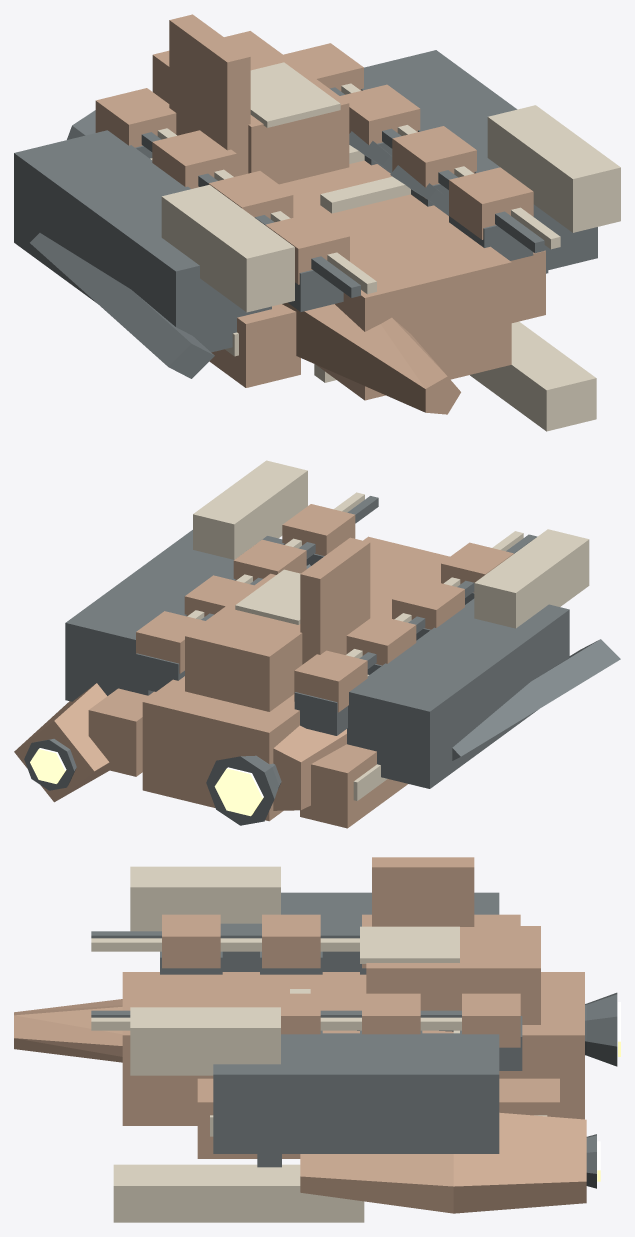
The picture shows the model from 3 angles, top to bottom: view 1: azimuth 30°, elevation 25°; view 2: azimuth 150°, elevation 25°; view 3: azimuth 270°, elevation 25°; orthographic projection. The views are drawn at different scales.
Bounding box in the file's own units: 15.6 × 9.5 × 19.44.
